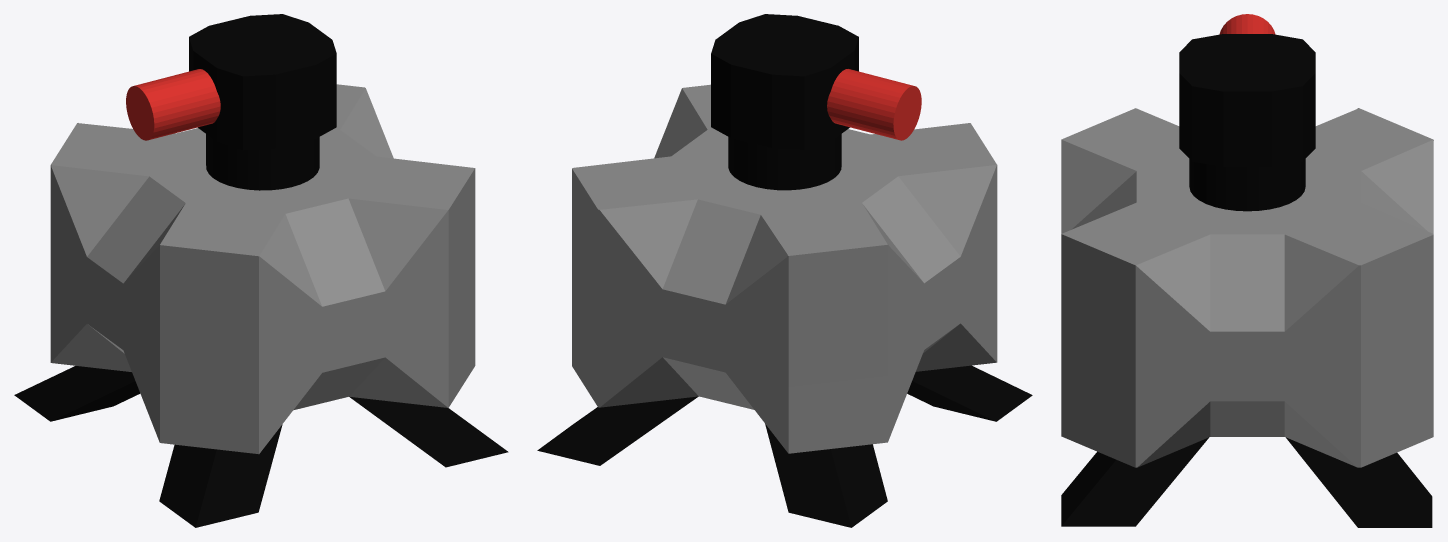
Rendered from turret.fbx.
3 views of the same model, side by side, from view 1: azimuth 30°, elevation 25°; view 2: azimuth 150°, elevation 25°; view 3: azimuth 270°, elevation 25° (orthographic). The views are drawn at different scales.
Visible parts, largest first — view 1: Cube; view 2: Cube; view 3: Cube.
Part boxes in pixels (<box>): Cube: <box>14,14,508,527</box>; Cube: <box>537,14,1032,527</box>; Cube: <box>1061,14,1433,527</box>.
Bounding box in the file's own units: 2 × 2 × 2.29.
